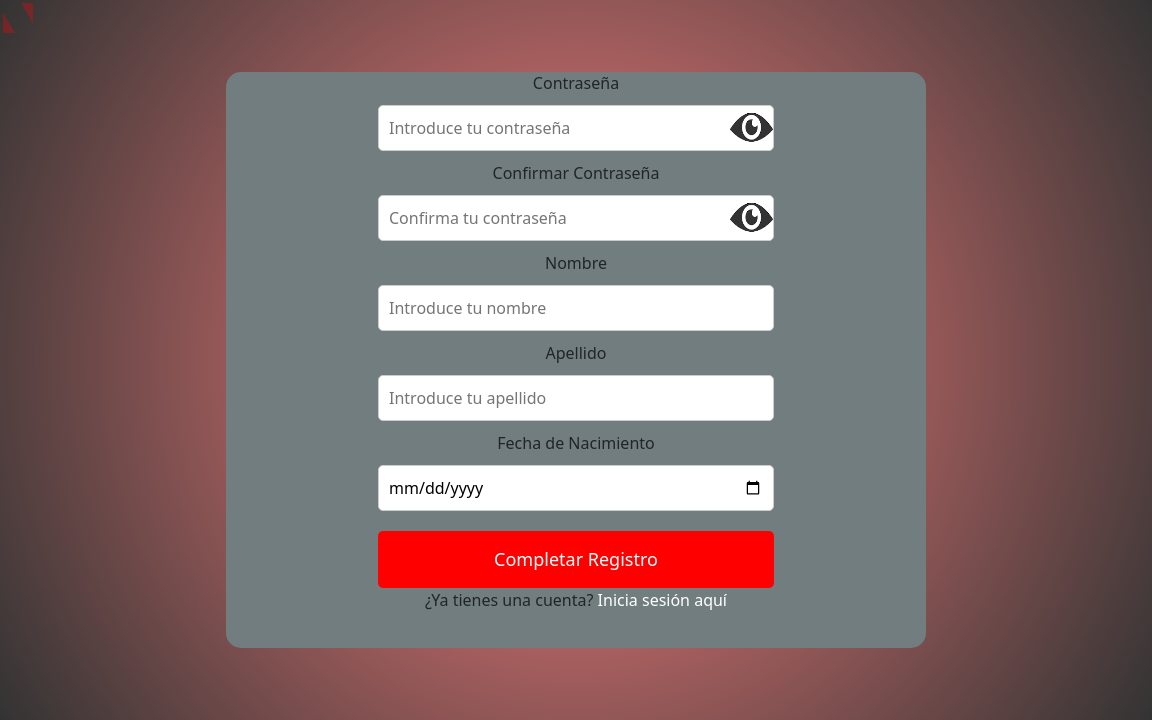
Página de registro › Valida la fecha de nacimiento
(page scrolled)
Type "2020-01-01" into the date field with id "fecha_nacimiento" at (576, 488), box left=378, top=465, right=774, bottom=511
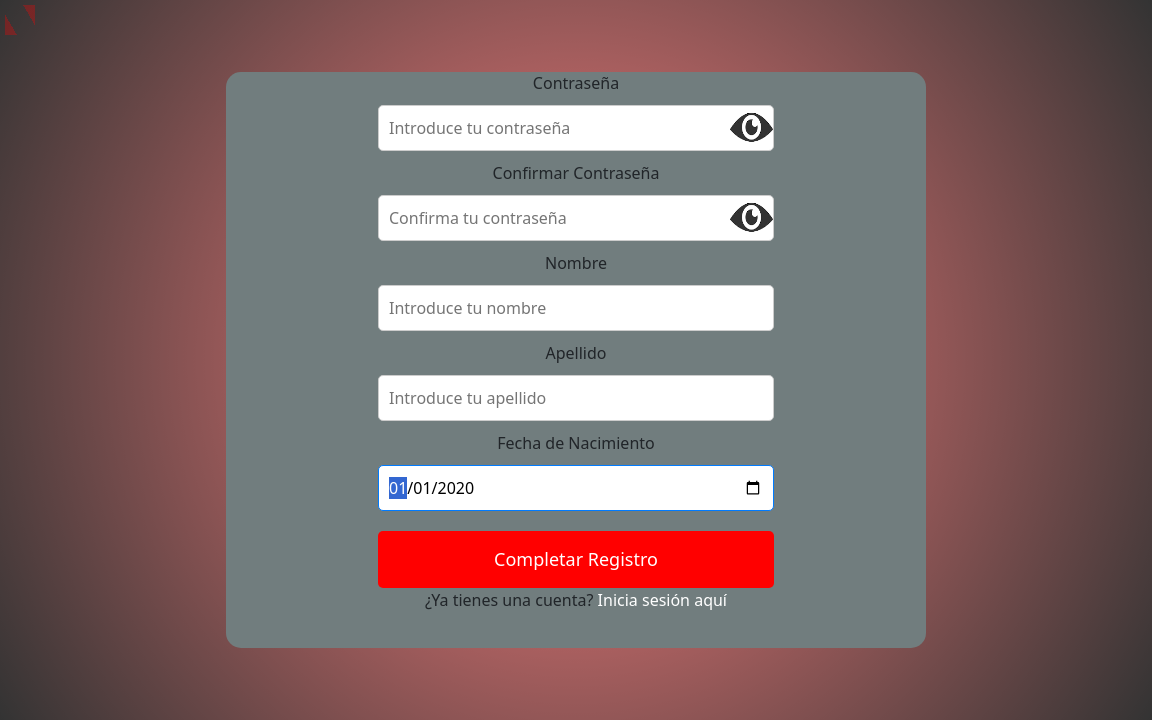
Click the submit button at (576, 560), box left=378, top=531, right=774, bottom=588
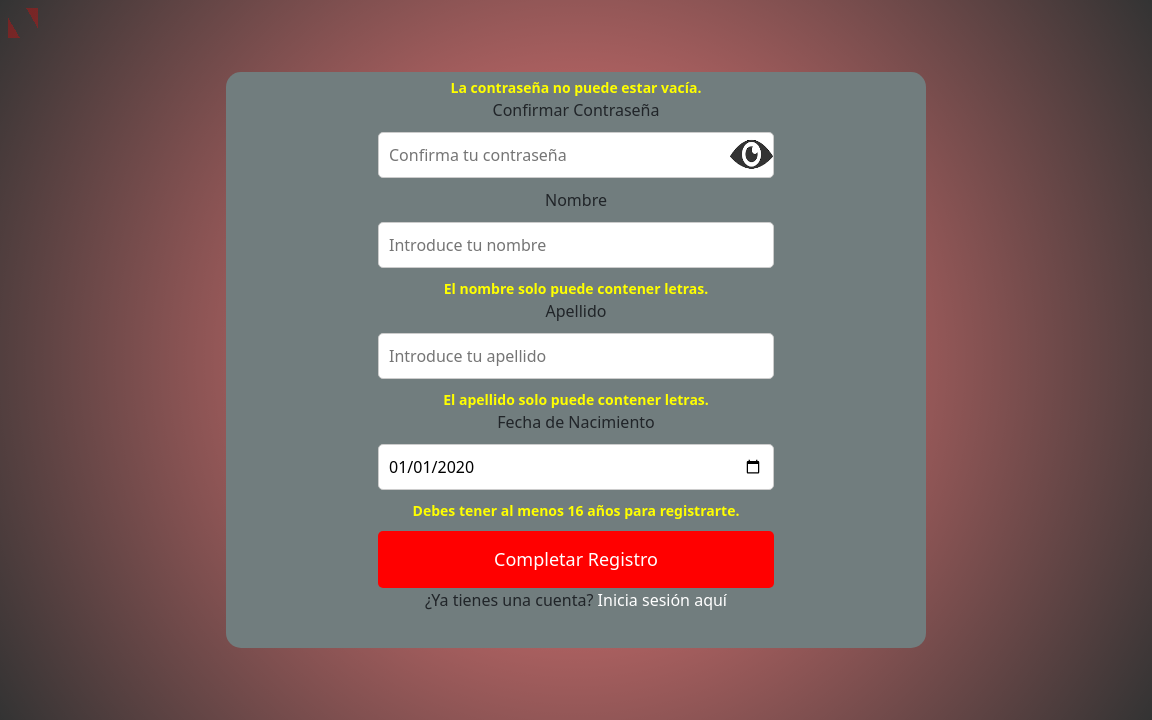
Now the text "Debes tener al menos 16 años para registrarte." is shown, box left=413, top=501, right=739, bottom=520
